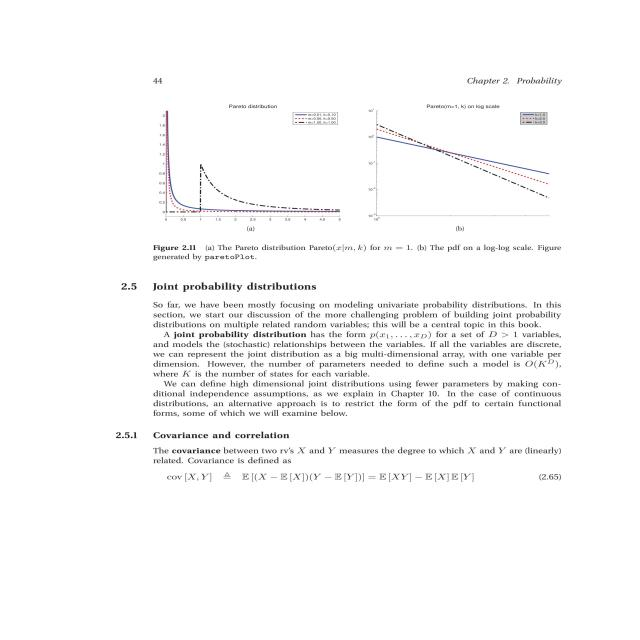diagram: (85, 87, 640, 276)
